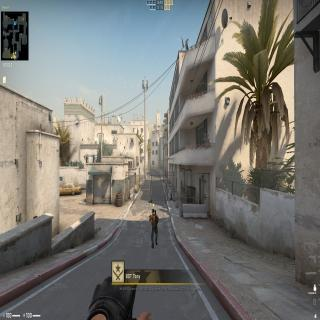T-Head: (152, 208, 154, 214)
